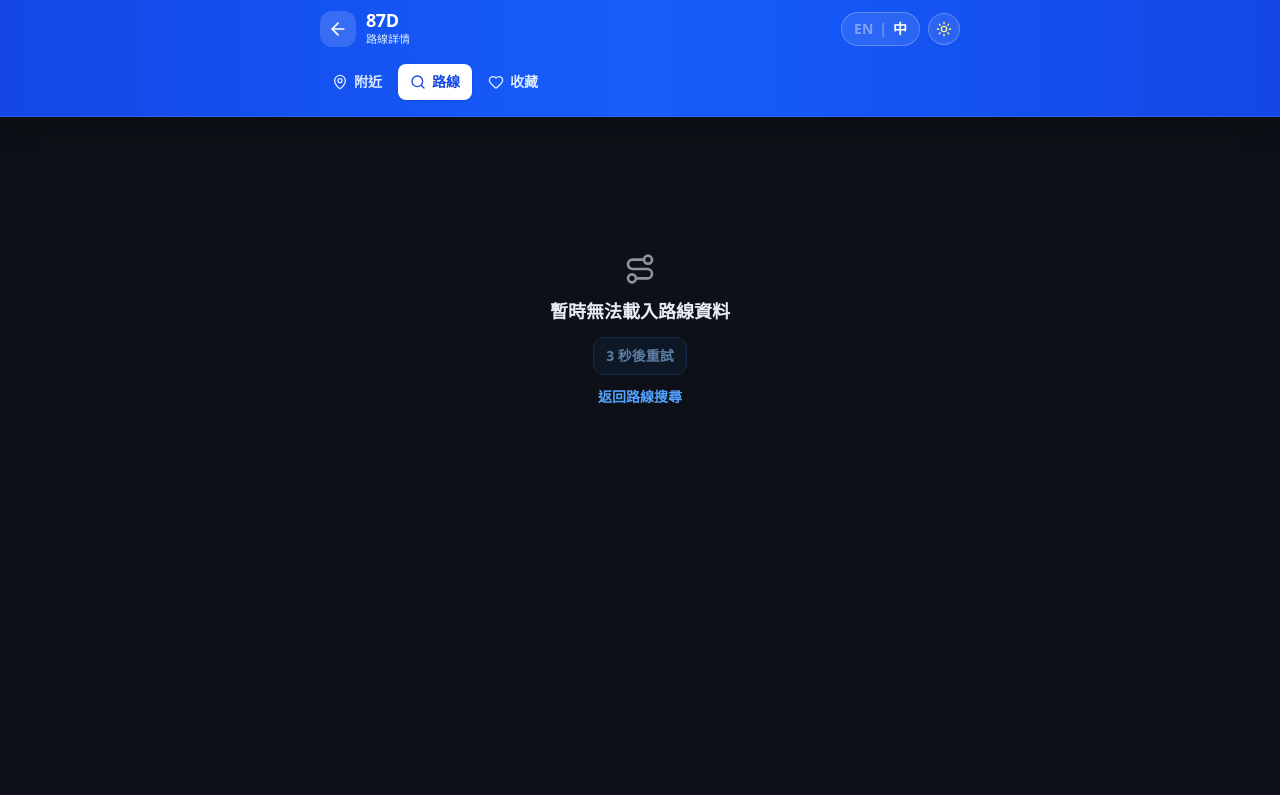
Test: RouteDetailPage › retries a temporarily unavailable topology response and preserves the search query in links
Expected: the text "暫時無法載入路線資料" is shown, [550,296,730,324]
Step 1. Click the button "3 秒後重試" → (640, 356), box [593,336,687,374]
Wait 3000 ms
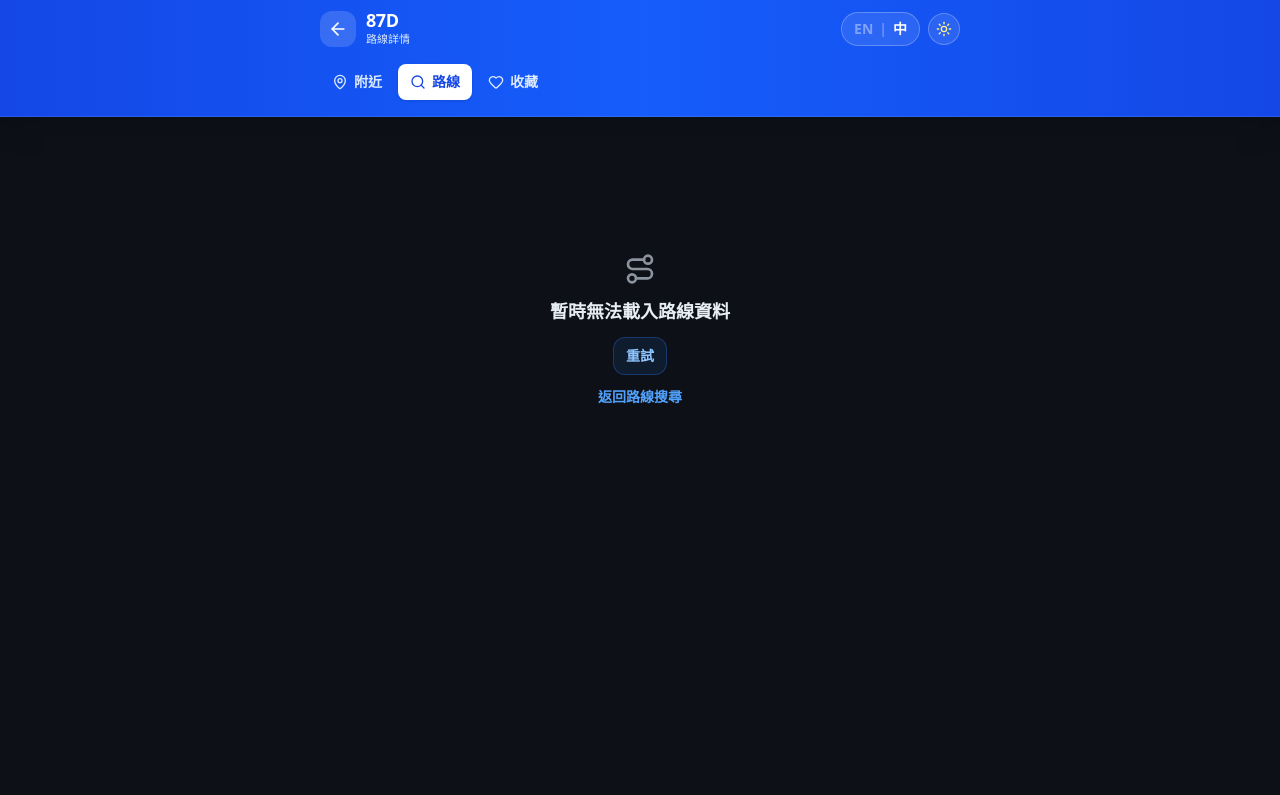
Step 2. Click the button "重試" → (640, 356), box [613,336,667,374]
(page scrolled)
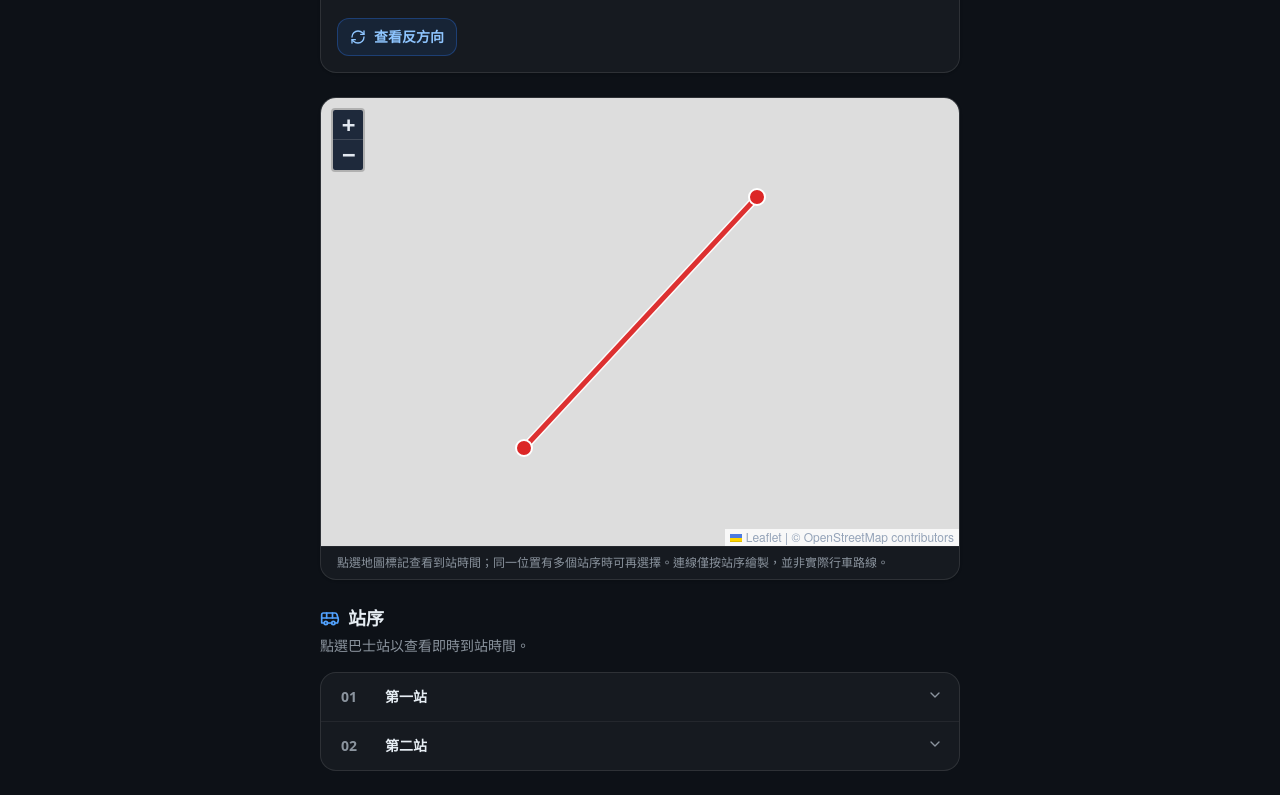
Expected: the text "第一站" is shown, [385,686,427,706]
